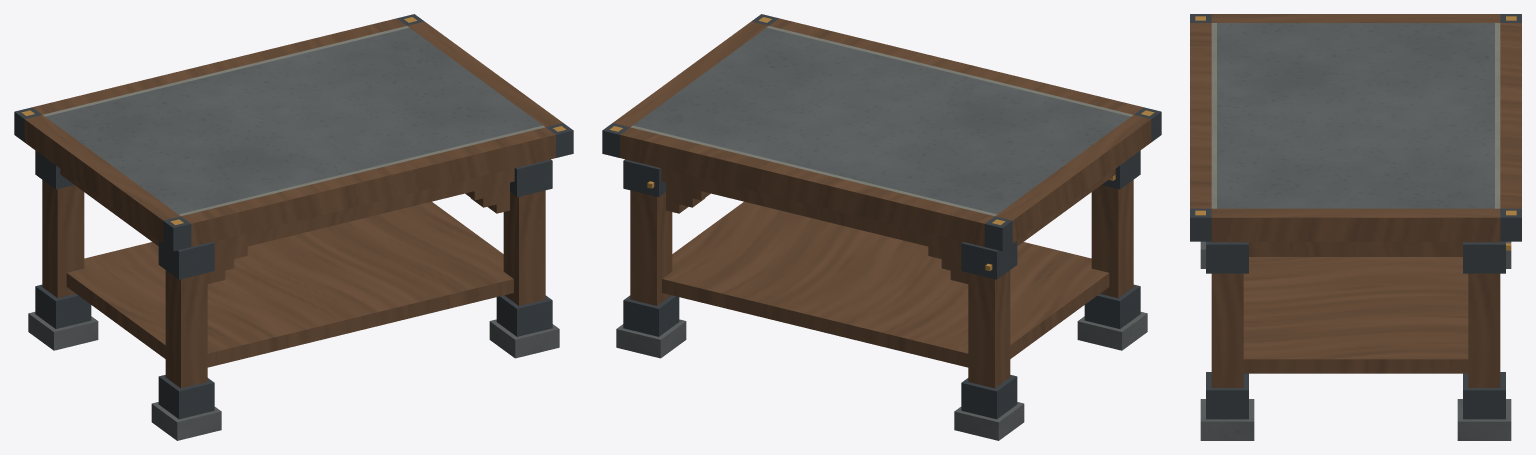
3 views of the same model, side by side, from view 1: azimuth 30°, elevation 25°; view 2: azimuth 150°, elevation 25°; view 3: azimuth 270°, elevation 25° (orthographic). The views are drawn at different scales.
Parts seen in each view (by area): view 1: 茶几台面, 茶几桌架; view 2: 茶几台面, 茶几桌架; view 3: 茶几台面, 茶几桌架.
Part boxes in pixels (x1,y1,x2,y2): 茶几台面: [14, 14, 573, 251]; 茶几桌架: [28, 150, 559, 440]; 茶几台面: [602, 14, 1161, 251]; 茶几桌架: [616, 150, 1147, 440]; 茶几台面: [1190, 14, 1521, 241]; 茶几桌架: [1200, 241, 1511, 440].
Size of the model in its own units: 0.9 by 0.47 by 0.62.
6 materials, 6 textured.
